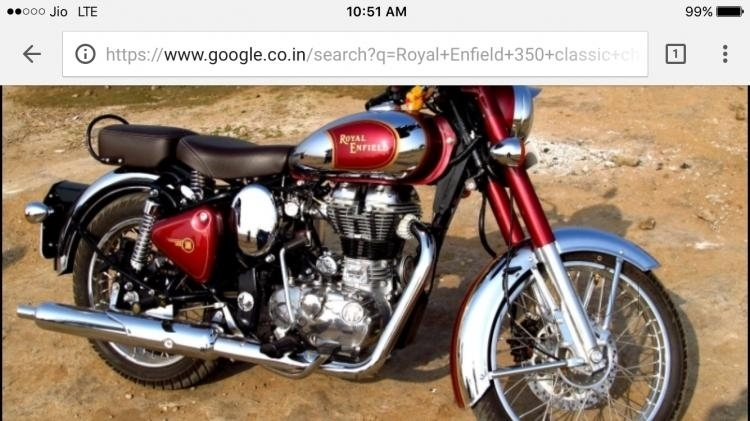Bike: (23, 105, 700, 421)
